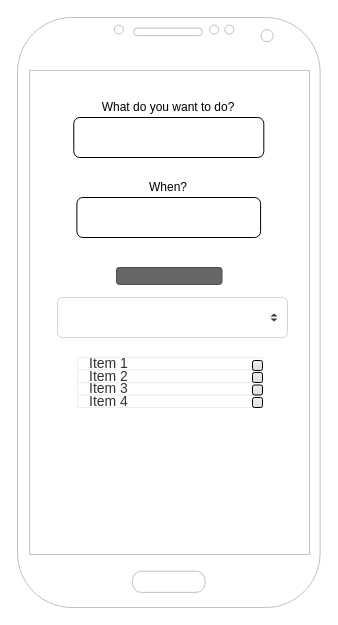
This 338x625 diagram has some shape labels left out. The centre of each missing label's shape, as x and y in pixels:
Add Item: the point at 169,275
Show Items Due By ...: the point at 172,317
